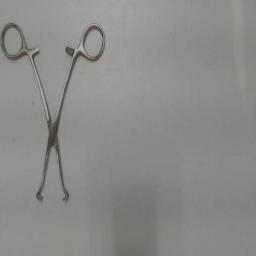Babcock Tissue Forceps: (2, 21, 106, 205)
